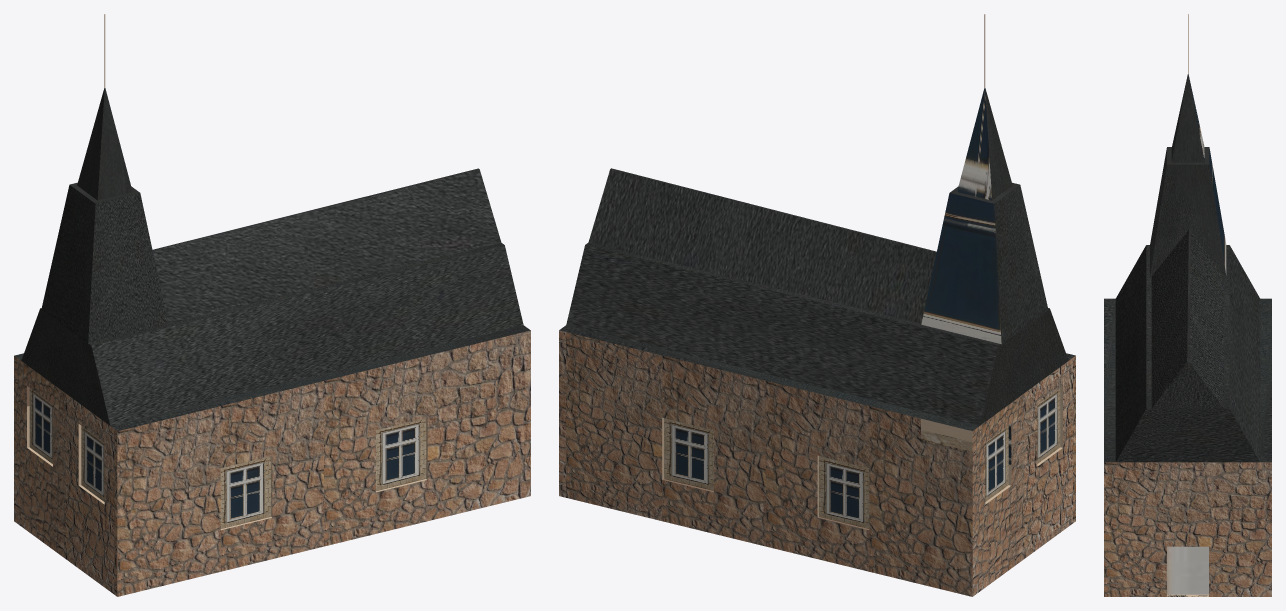
File: church.fbx
The picture shows the model from 3 angles, left to right: view 1: azimuth 30°, elevation 25°; view 2: azimuth 150°, elevation 25°; view 3: azimuth 270°, elevation 25°; orthographic projection. The views are drawn at different scales.
Parts seen in each view (by area): view 1: Church; view 2: Church; view 3: Church.
Boxes of the visible parts, box(x1,y1,x2,y2) form: Church: box(14, 14, 530, 596); Church: box(559, 14, 1075, 596); Church: box(1104, 14, 1271, 596).
Size of the model in its own units: 675 by 833 by 291.
Materials: 3 (3 with a texture image).
